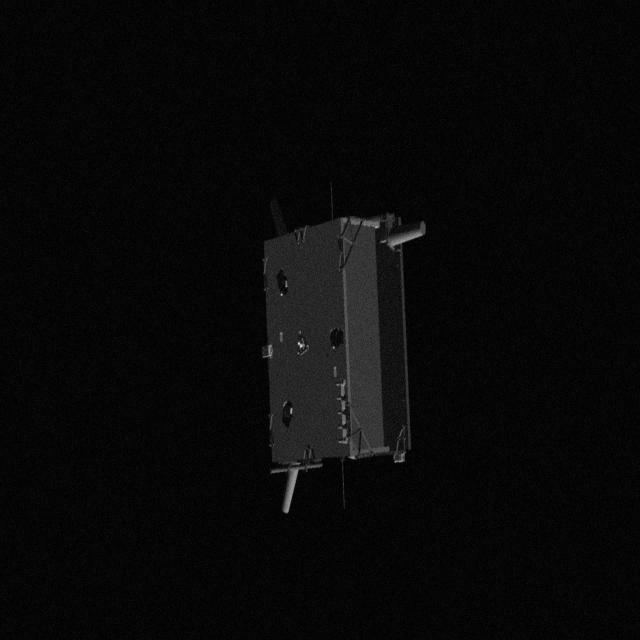satellite: (244, 196, 440, 520)
